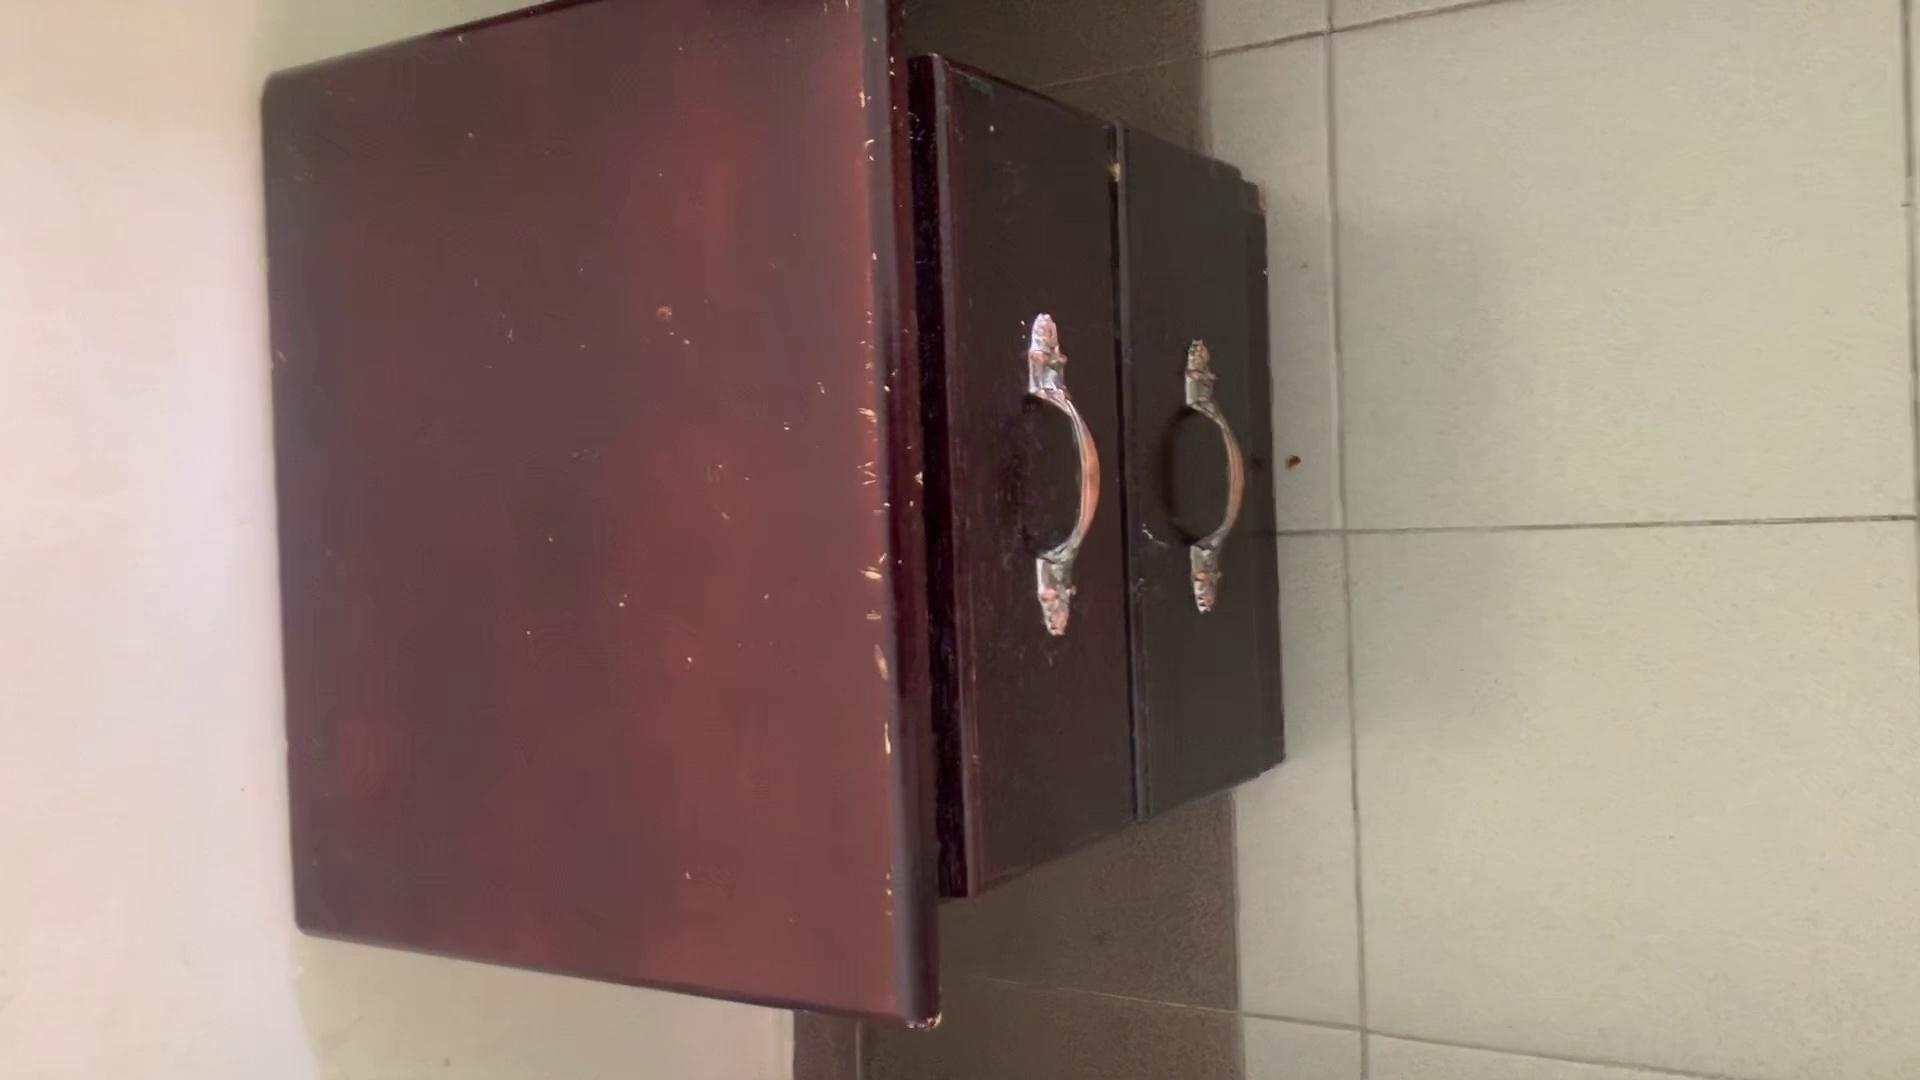cabinet_door: (951, 96, 1122, 868), (1122, 156, 1255, 799)
handle: (1004, 310, 1118, 641), (1171, 335, 1258, 624)
